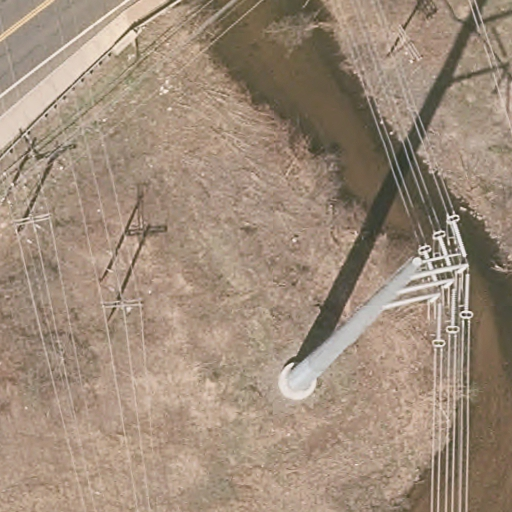DT: (387, 23, 423, 64), (100, 298, 143, 324), (11, 211, 50, 237)
TT: (277, 212, 473, 401)
